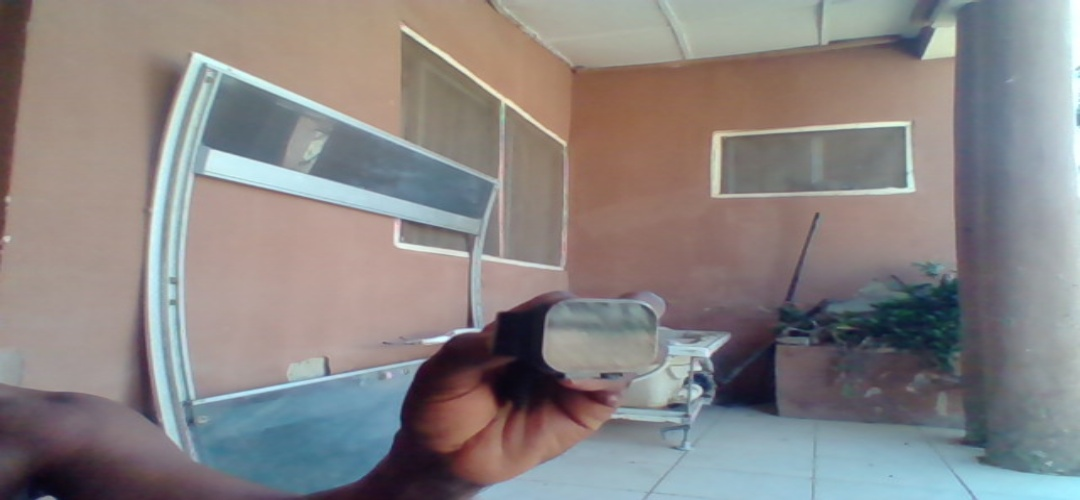smart_watch: (505, 297, 662, 387)
